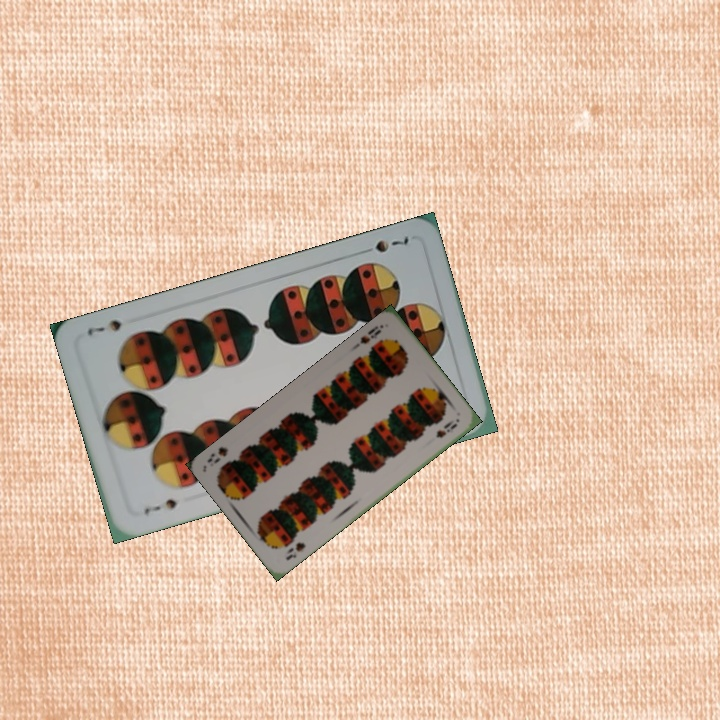S7: (356, 231, 412, 257), (140, 494, 179, 517)
S8: (282, 538, 308, 563), (356, 325, 384, 346)
